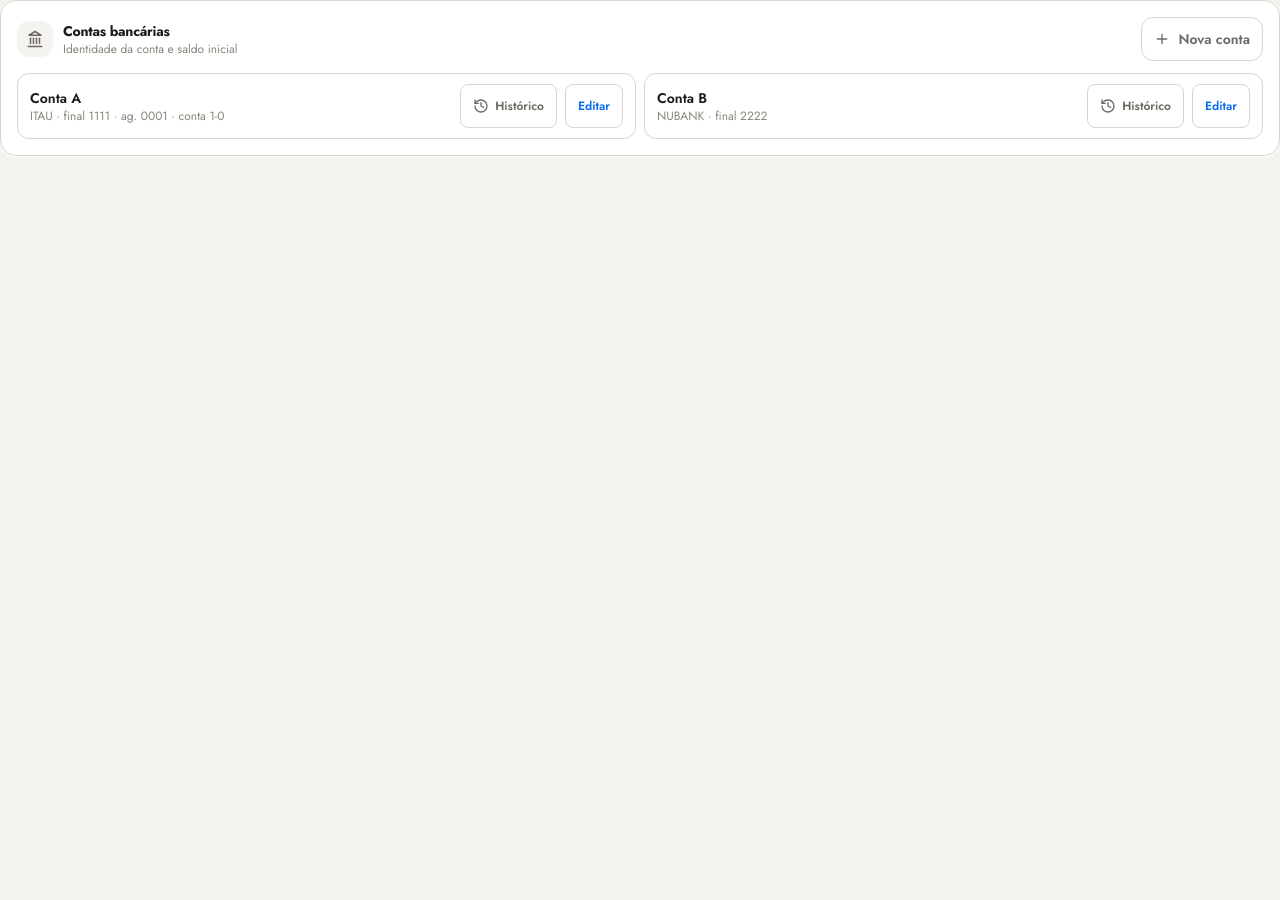
Test case: BankAccountsSection › cada conta abre o próprio histórico de importações com o accountId correto
The image size is (1280, 900).
Click the button with aria-label "Importações de Conta B, final 2222".
click(1136, 106)  # box [1087,84,1184,128]
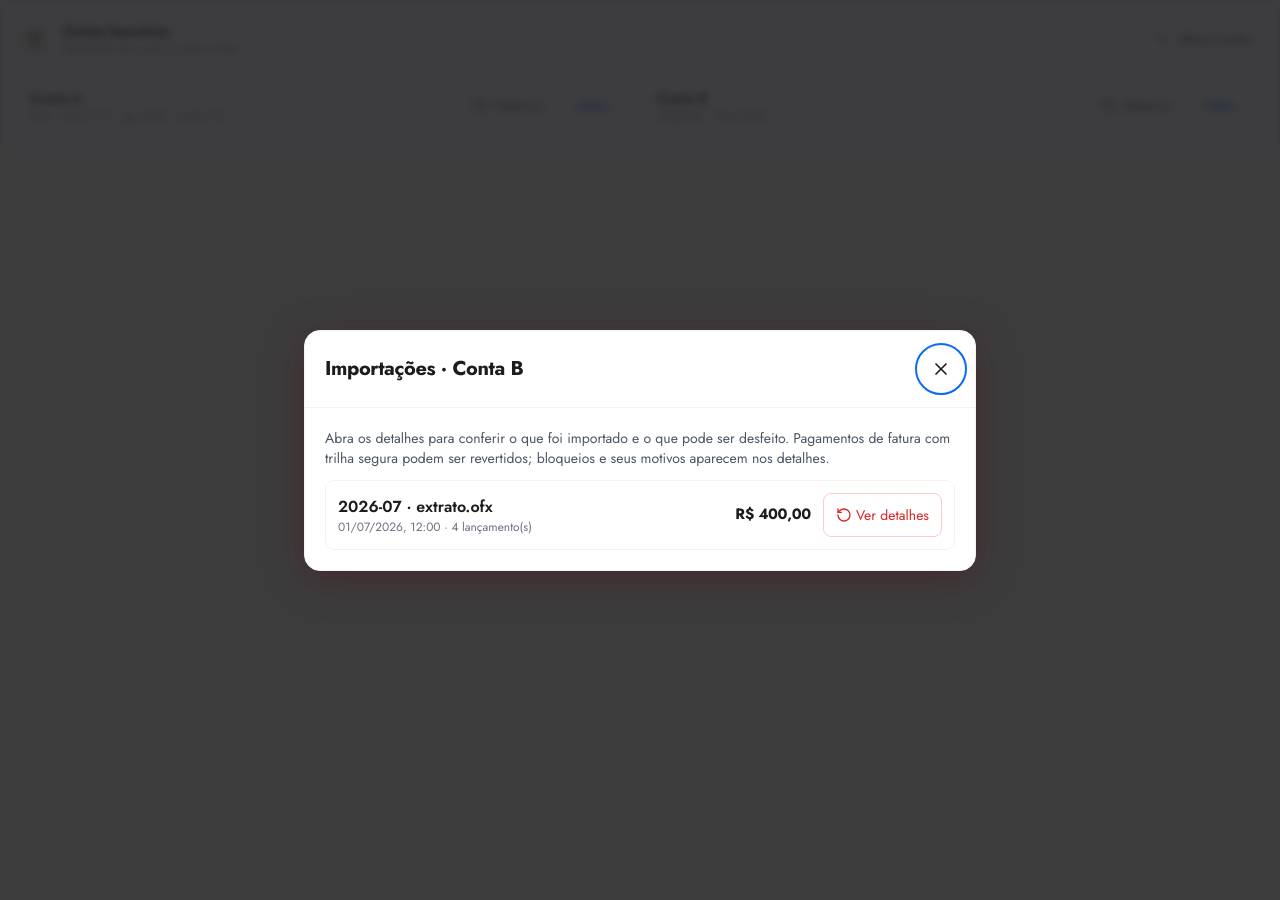
Check: the text "2026-07 · extrato.ofx" is shown, box [338,494,493,518]
